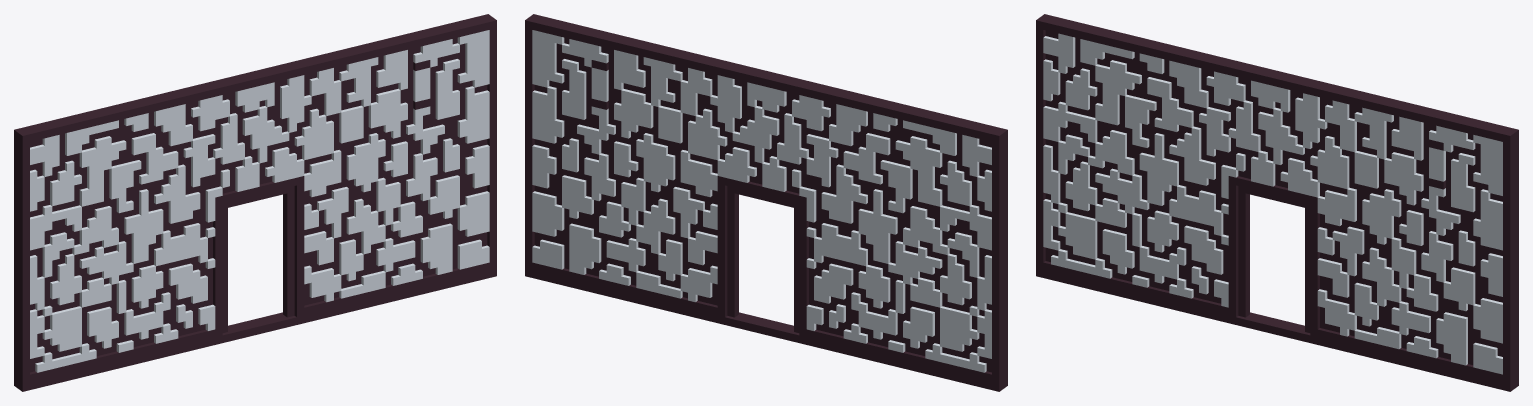
The model's file is Cobblestone Wall (64x32x4) With Door (8x12).fbx.
3 views of the same model, side by side, from view 1: azimuth 30°, elevation 25°; view 2: azimuth 150°, elevation 25°; view 3: azimuth 330°, elevation 25° (orthographic).
Visible parts, largest first — view 1: generated; view 2: generated; view 3: generated.
Part boxes in pixels (left/top/right/bottom): generated: left=14, top=14, right=496, bottom=391; generated: left=525, top=14, right=1007, bottom=391; generated: left=1036, top=14, right=1518, bottom=391.
Bounding box in the file's own units: 2560 × 1320 × 80.
